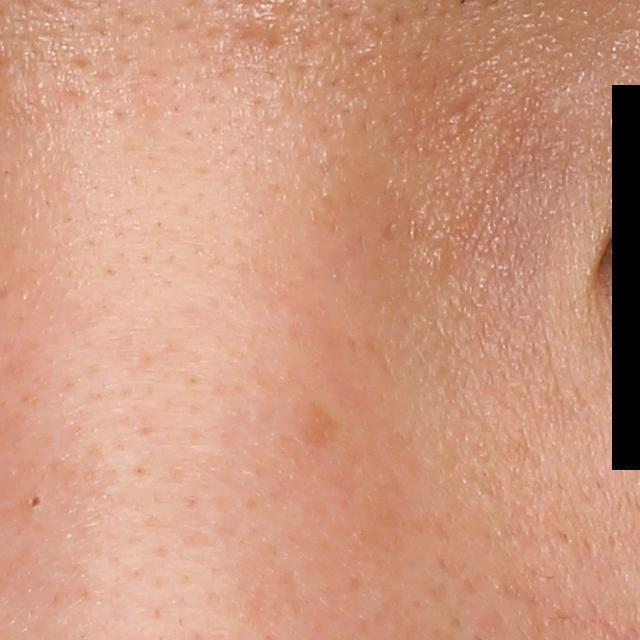atrophic_scar: (229, 18, 287, 60)
comedo: (21, 488, 47, 515)
melasma: (296, 395, 346, 453)
